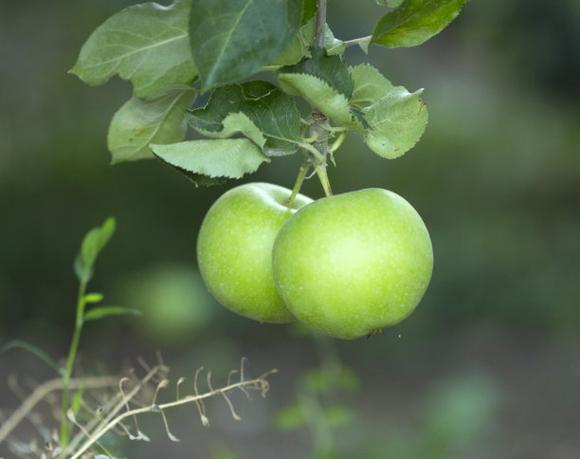unripe: (268, 185, 438, 349), (193, 174, 329, 329)
